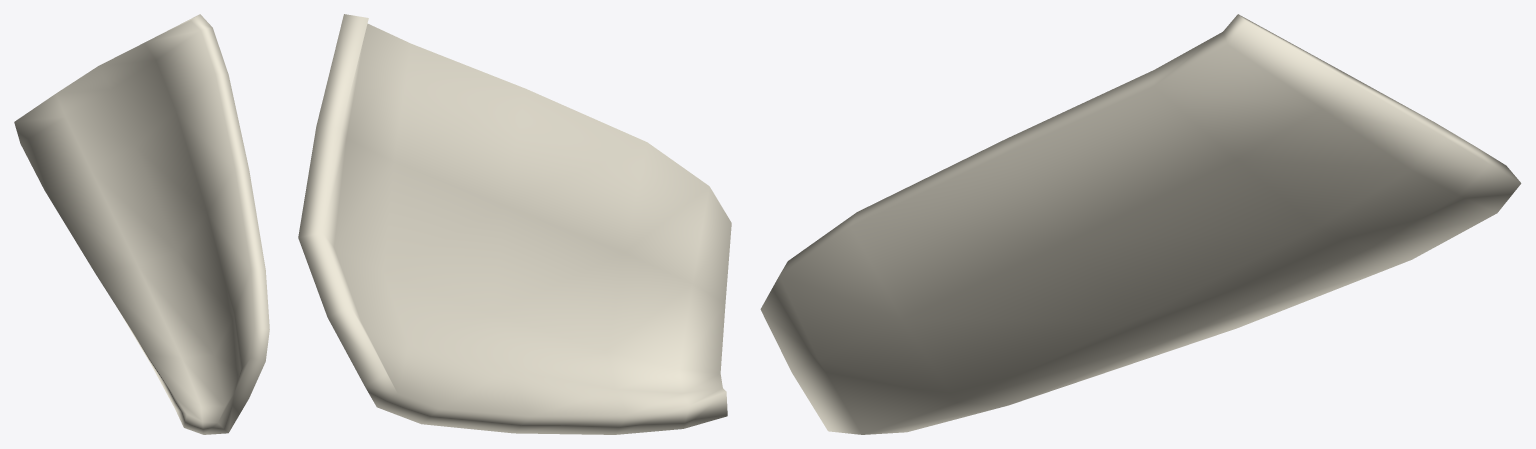
The picture shows the model from 3 angles, left to right: view 1: azimuth 30°, elevation 25°; view 2: azimuth 150°, elevation 25°; view 3: azimuth 270°, elevation 25°; orthographic projection. The views are drawn at different scales.
Parts seen in each view (by area): view 1: ZA_79b3057a168b1ec7; view 2: ZA_79b3057a168b1ec7; view 3: ZA_79b3057a168b1ec7.
Boxes of the visible parts, <box> form: ZA_79b3057a168b1ec7: <box>14,14,269,434</box>; ZA_79b3057a168b1ec7: <box>298,14,731,434</box>; ZA_79b3057a168b1ec7: <box>760,14,1521,434</box>.
Size of the model in its own units: 0.0049 by 0.0107 by 0.0148.
